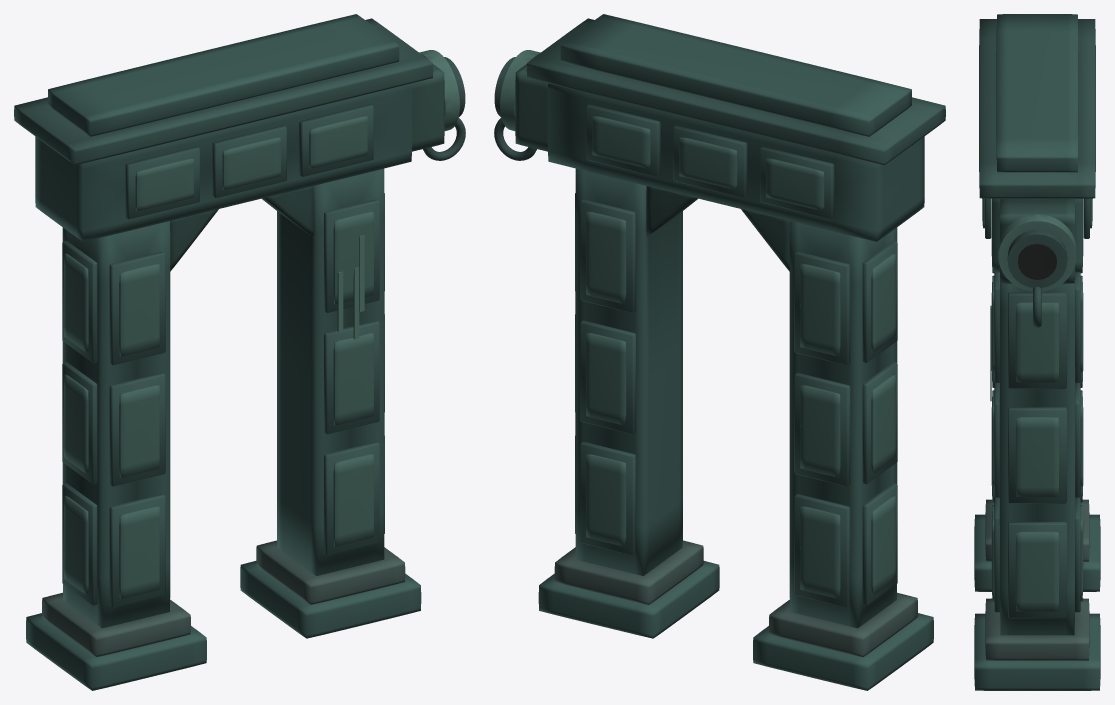
File: intake_gantry_a.glb
The picture shows the model from 3 angles, left to right: view 1: azimuth 30°, elevation 25°; view 2: azimuth 150°, elevation 25°; view 3: azimuth 270°, elevation 25°; orthographic projection. The views are drawn at different scales.
Visible parts, largest first — view 1: Surface; view 2: Surface; view 3: Surface.
Boxes of the visible parts, x1=… form: Surface: x1=14, y1=14, x2=465, y2=690; Surface: x1=494, y1=14, x2=945, y2=690; Surface: x1=974, y1=14, x2=1100, y2=690.
Size of the model in its own units: 14.55 by 18.52 by 4.
